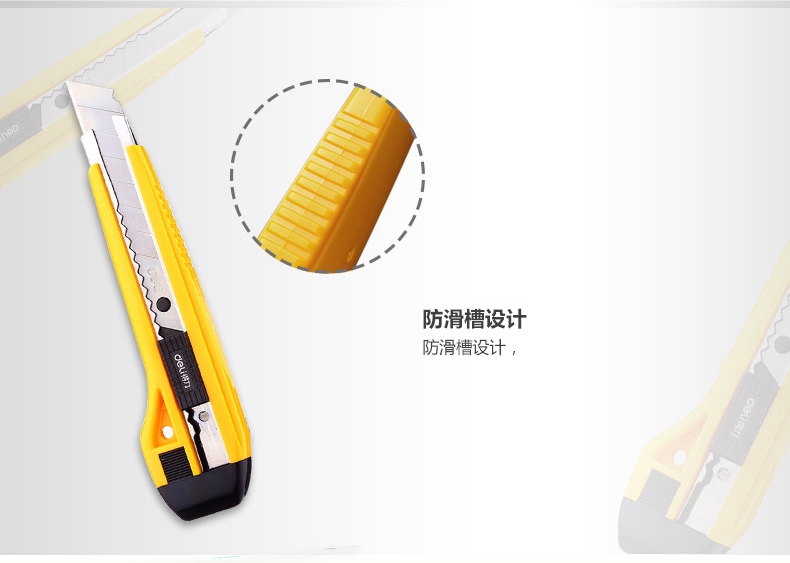cutter: (64, 79, 253, 524), (618, 243, 790, 552), (1, 1, 229, 188)
